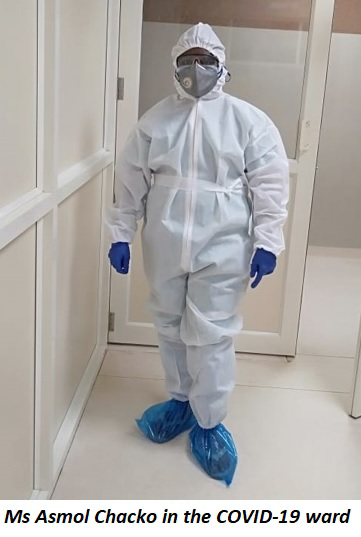Coverall: (111, 21, 292, 487)
Gloves: (251, 247, 278, 289), (108, 242, 132, 274)
Goggles: (177, 51, 222, 75)
with_mask: (179, 56, 220, 95)
